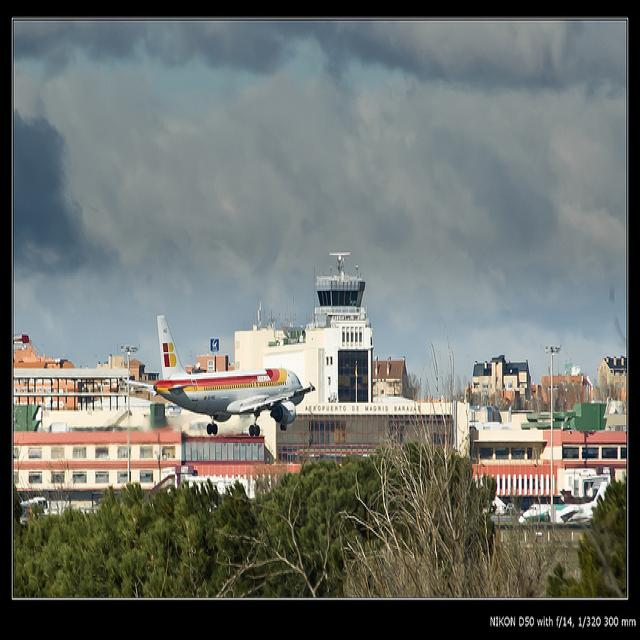airplane: (124, 313, 316, 441), (522, 480, 611, 526)
